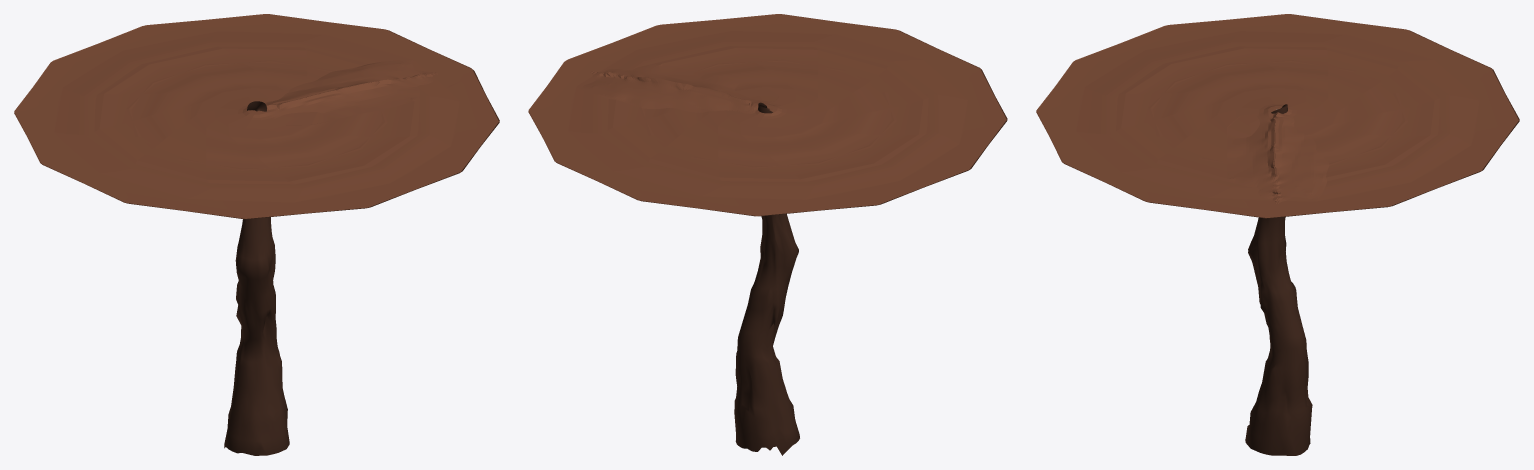
Rendered from poganka.glb.
3 renders of one model, left to right at view 1: azimuth 30°, elevation 25°; view 2: azimuth 150°, elevation 25°; view 3: azimuth 270°, elevation 25°, orthographic.
Visible parts, largest first — view 1: Плоскость, Цилиндр; view 2: Плоскость, Цилиндр; view 3: Плоскость, Цилиндр.
Boxes of the visible parts, bbox=[...] form: Плоскость: bbox=[14, 14, 499, 219]; Цилиндр: bbox=[224, 101, 289, 455]; Плоскость: bbox=[528, 14, 1007, 216]; Цилиндр: bbox=[734, 102, 799, 455]; Плоскость: bbox=[1036, 14, 1519, 218]; Цилиндр: bbox=[1245, 104, 1312, 455].
Bounding box in the file's own units: 14.31 × 11.19 × 14.31.
